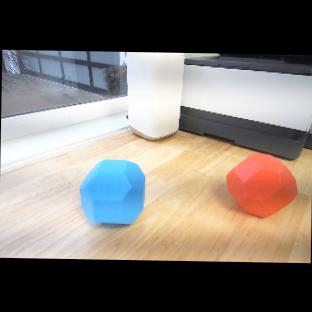V5_BLUE: (78, 156, 146, 226)
V5_RED: (225, 150, 299, 219)
